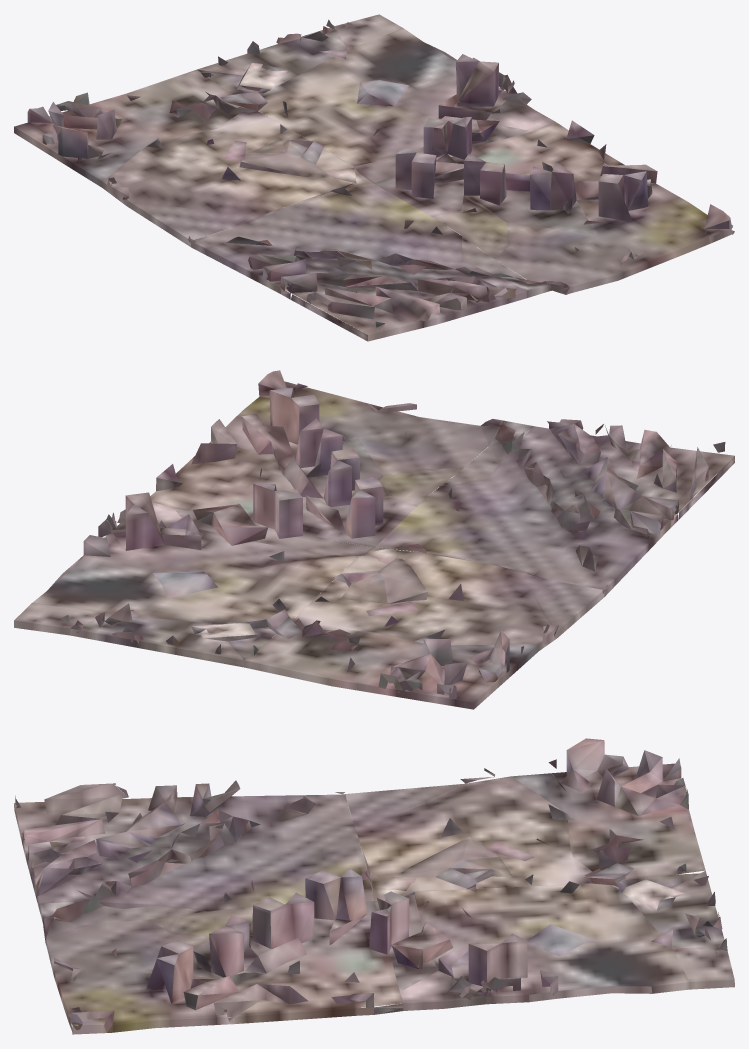
3 views of the same model, one above another, from view 1: azimuth 30°, elevation 25°; view 2: azimuth 150°, elevation 25°; view 3: azimuth 270°, elevation 25° (orthographic). The views are drawn at different scales.
Visible parts, largest first — view 1: Mesh_0; view 2: Mesh_0; view 3: Mesh_0.
Boxes of the visible parts, bbox=[...] form: Mesh_0: bbox=[14, 14, 734, 341]; Mesh_0: bbox=[14, 370, 734, 709]; Mesh_0: bbox=[14, 738, 734, 1034].
Bounding box in the file's own units: 535 × 66.82 × 659.
Materials: 1 (1 with a texture image).
